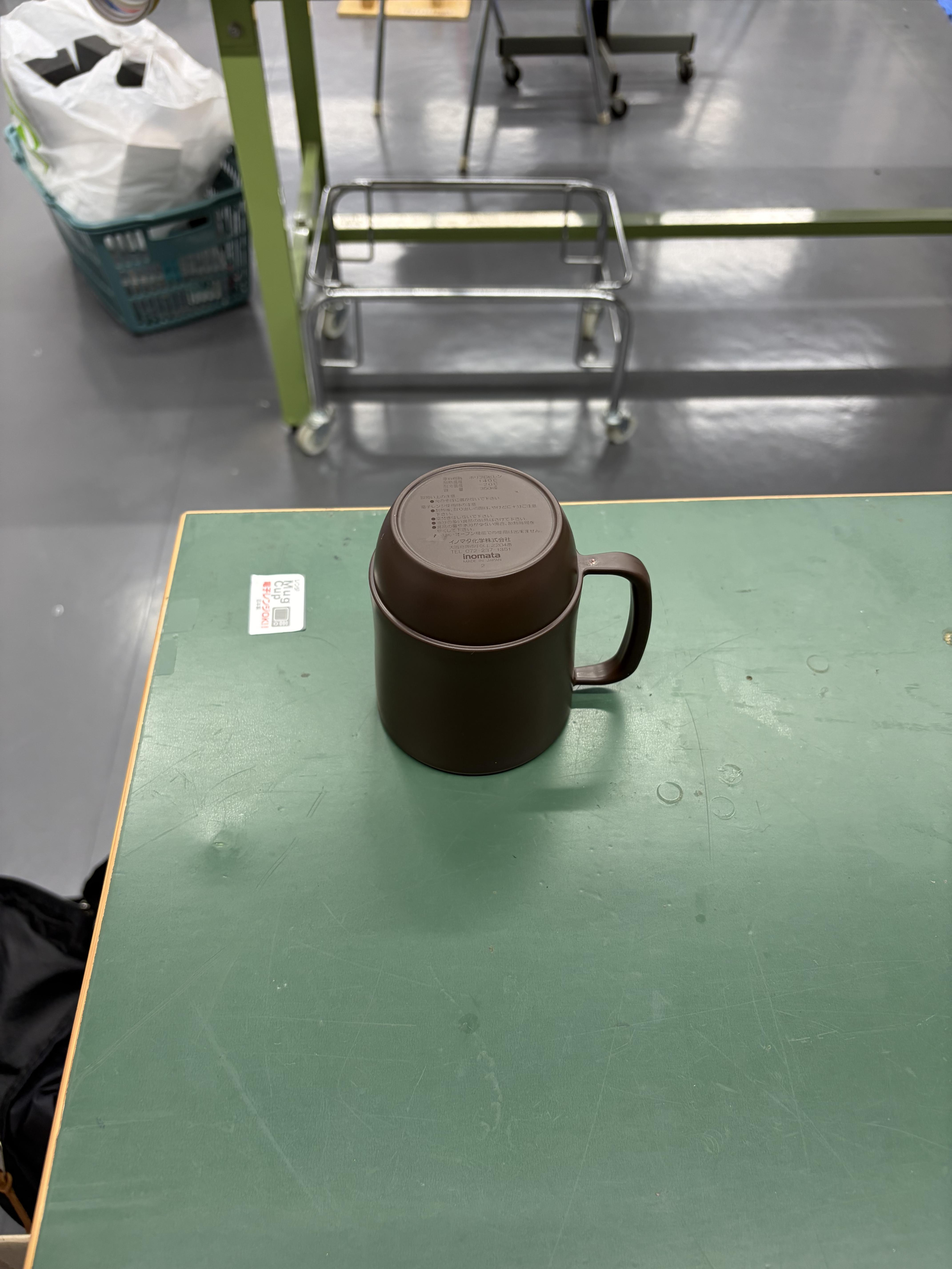mug-real100-3d100: (370, 463, 652, 775)
